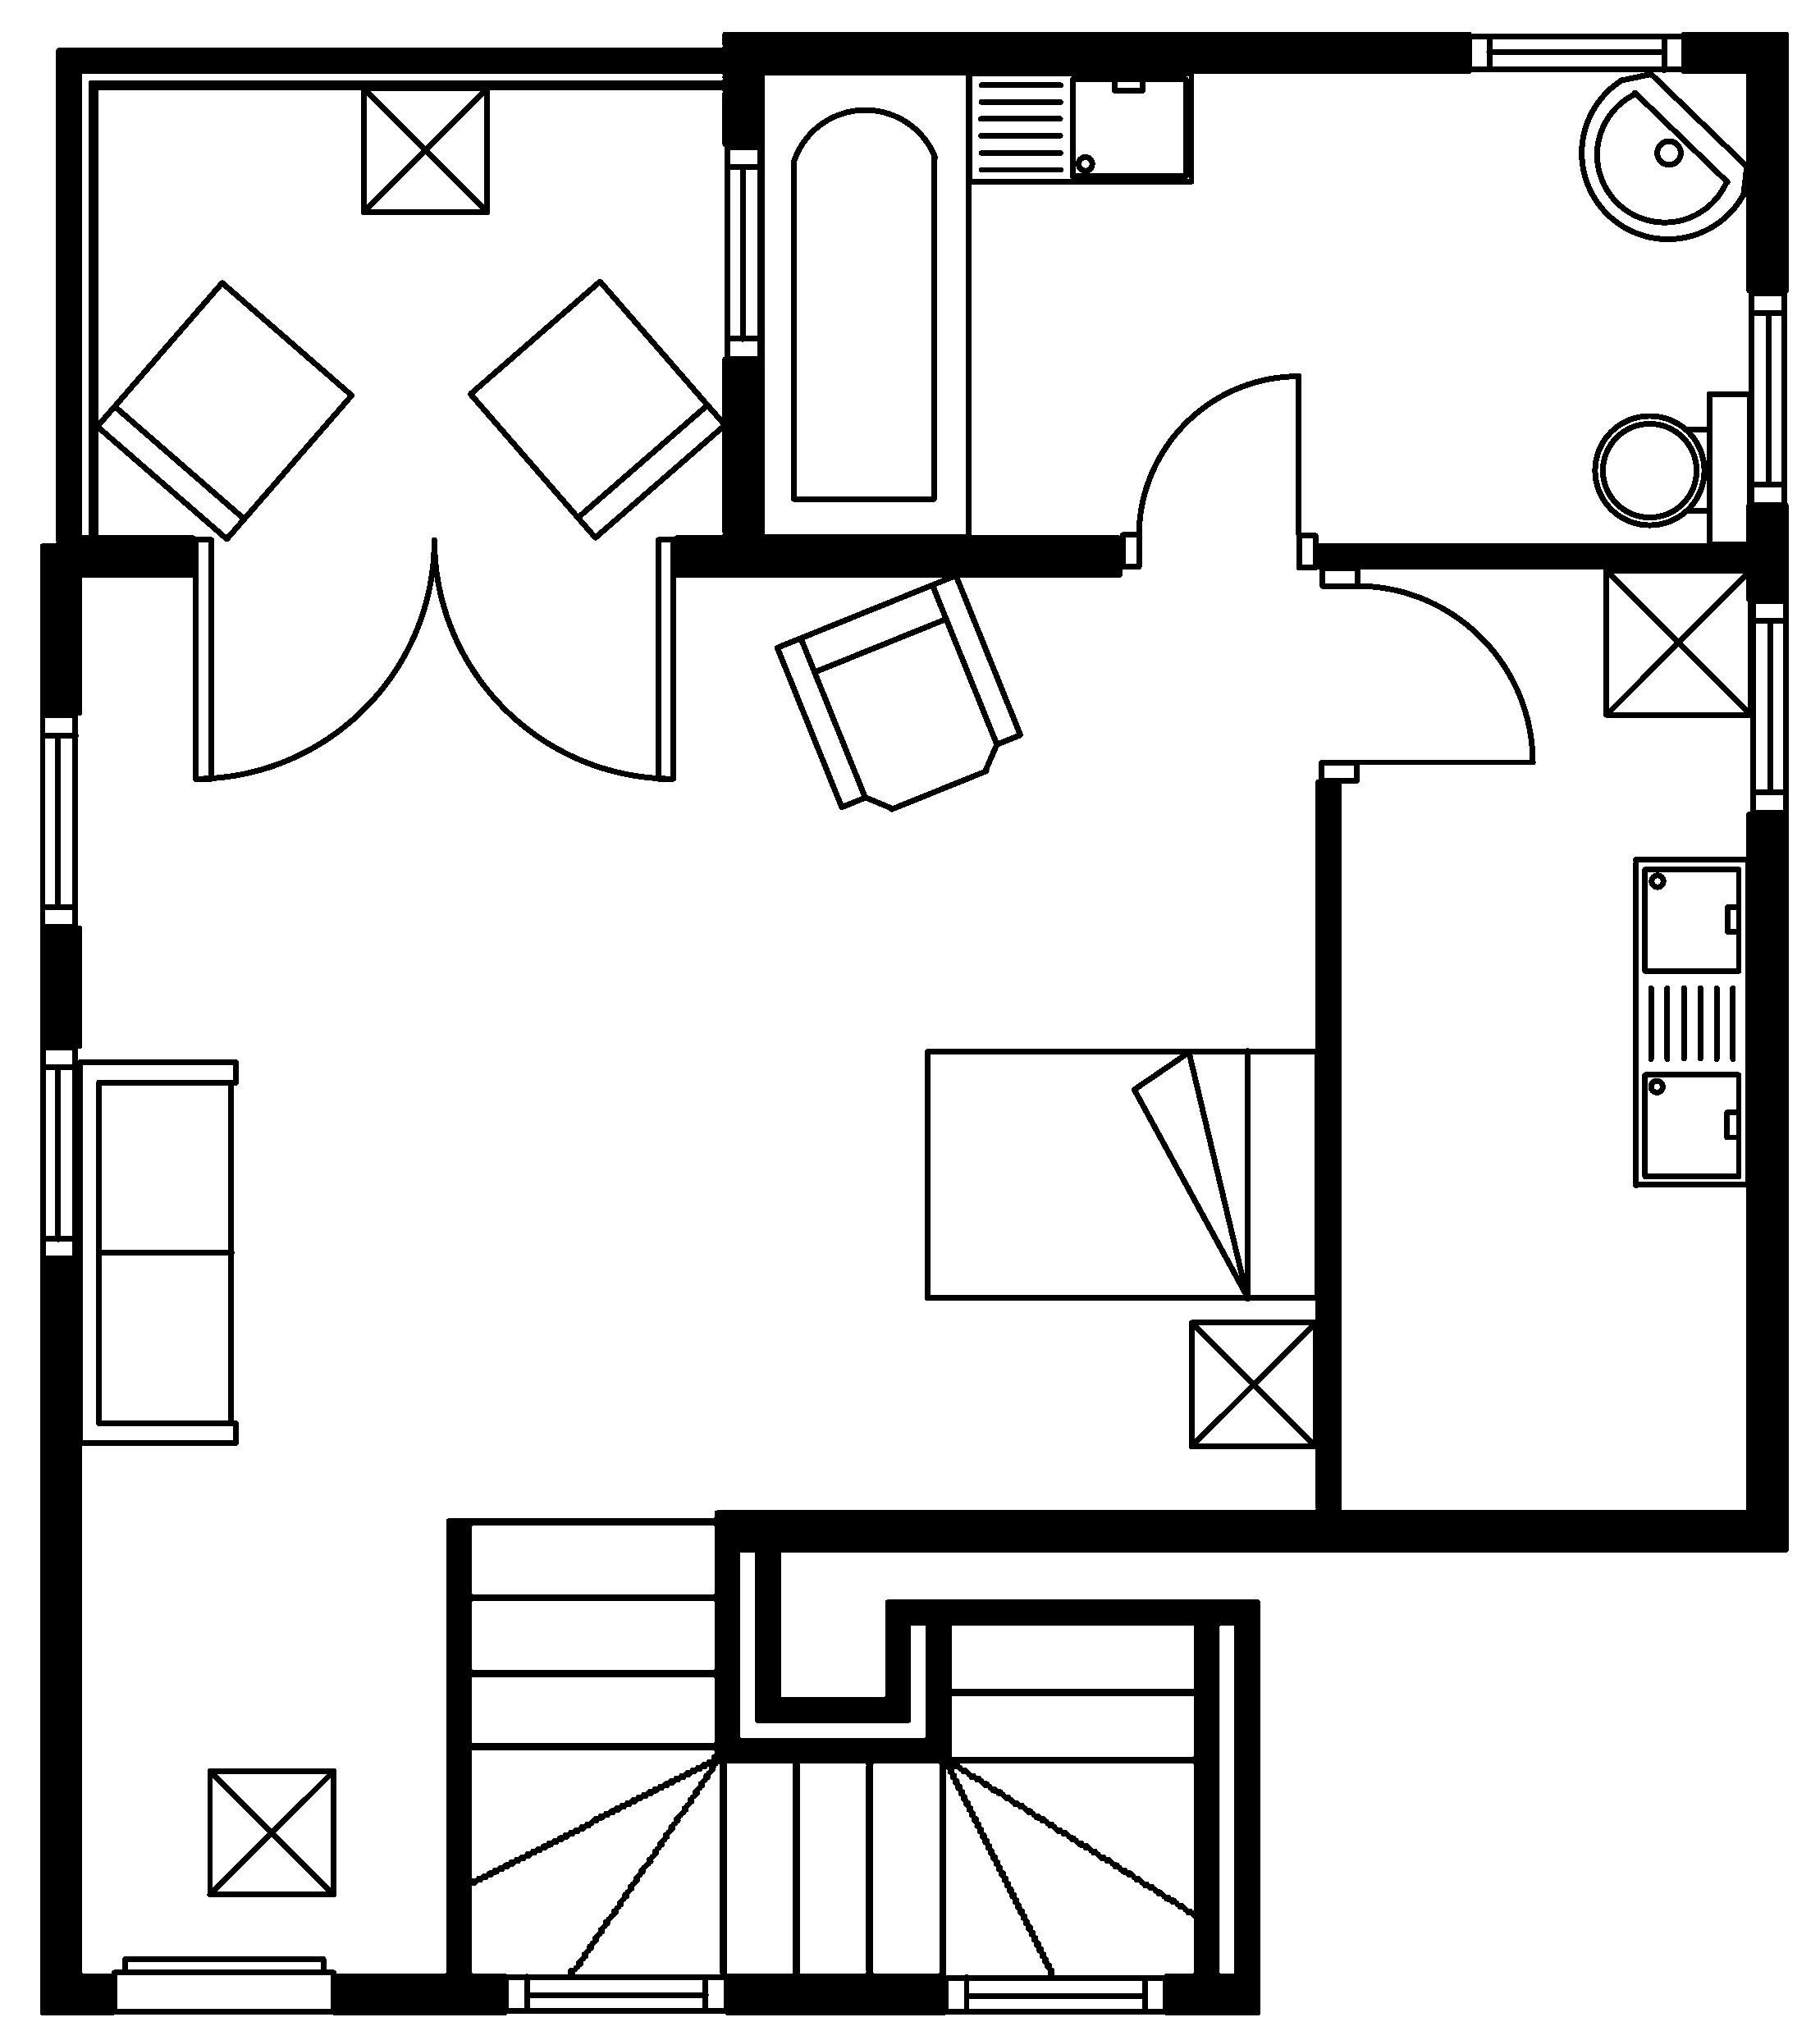armchair: (773, 571, 1022, 812)
bed: (922, 1047, 1321, 1302)
coffee_table: (1602, 566, 1753, 719), (1186, 1318, 1319, 1449), (358, 84, 490, 214), (206, 1767, 337, 1897)
large_sink: (1592, 388, 1753, 548)
large_sofa: (76, 1058, 239, 1446)
sink: (964, 69, 1195, 184)
small_sink: (1578, 70, 1750, 241)
small_sofa: (93, 278, 355, 543), (466, 276, 727, 541)
tub: (757, 69, 971, 539)
twin_sink: (1630, 856, 1750, 1189)
